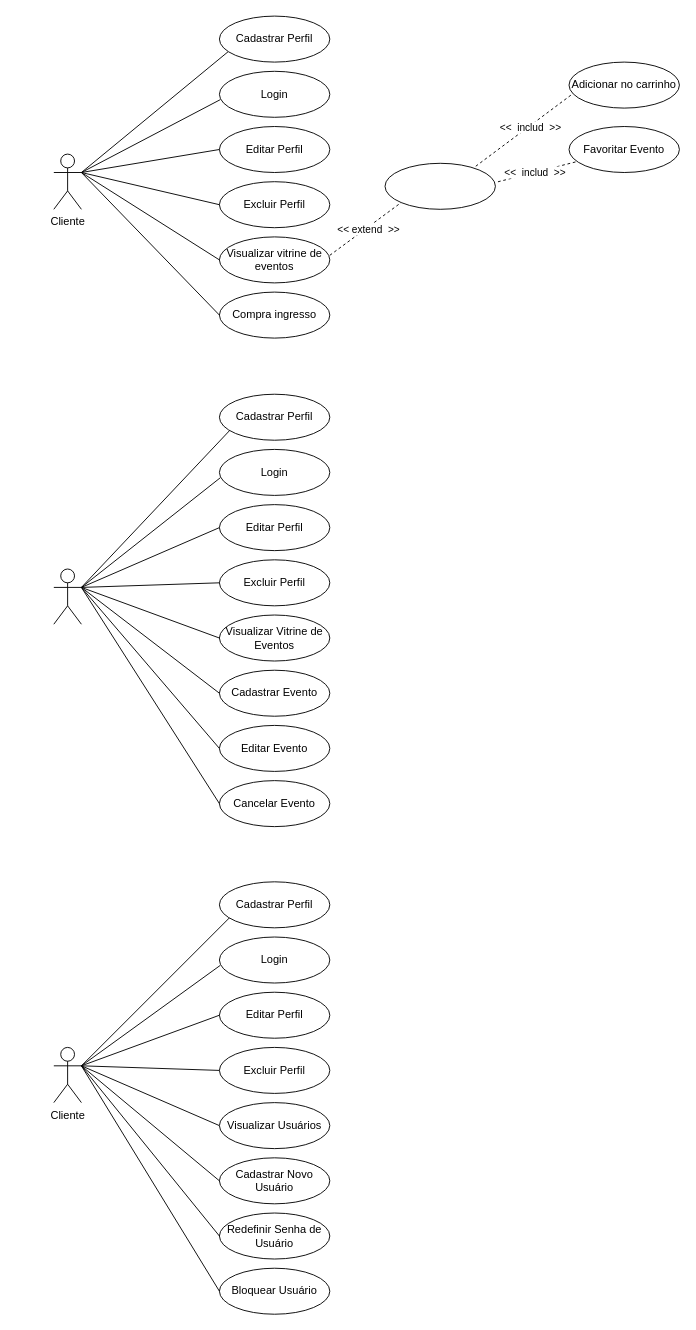
Some shapes in this 696 by 1330 pixel diagram are drawn without their labels. Each missing label, with the centre of its shape:
"Promotor de Eventos" belongs at (x=67, y=596).
"Visualizar detalhe do evento" belongs at (x=439, y=185).
